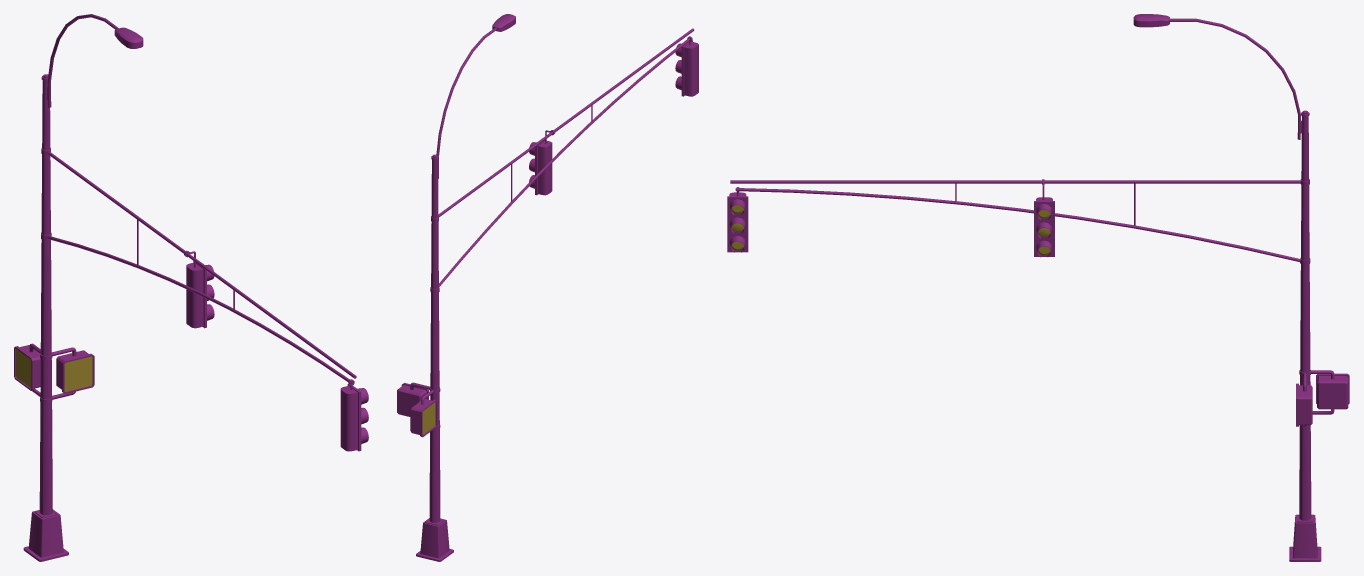
The model's file is mcp_traffic_lights_02_LOD_0.FBX.
3 views of the same model, side by side, from view 1: azimuth 30°, elevation 25°; view 2: azimuth 150°, elevation 25°; view 3: azimuth 270°, elevation 25° (orthographic). The views are drawn at different scales.
Visible parts, largest first — view 1: mcp_traffic_lights_02, mcp_traffic_lights_02_lights_b; view 2: mcp_traffic_lights_02; view 3: mcp_traffic_lights_02.
Boxes of the visible parts, <box> form: mcp_traffic_lights_02: <box>14,14,368,561</box>; mcp_traffic_lights_02_lights_b: <box>16,349,92,391</box>; mcp_traffic_lights_02: <box>397,14,698,561</box>; mcp_traffic_lights_02: <box>727,14,1349,561</box>.
Size of the model in its own units: 127 by 1206 by 1263.
